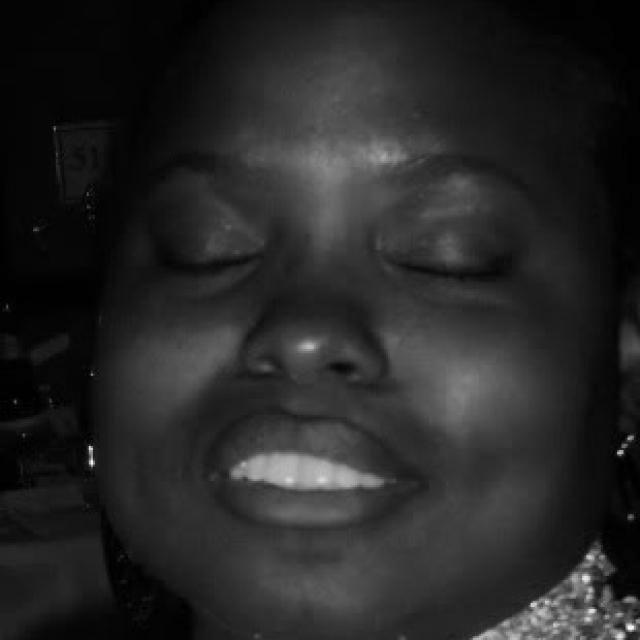real: (90, 91, 602, 623), (134, 178, 546, 314)
